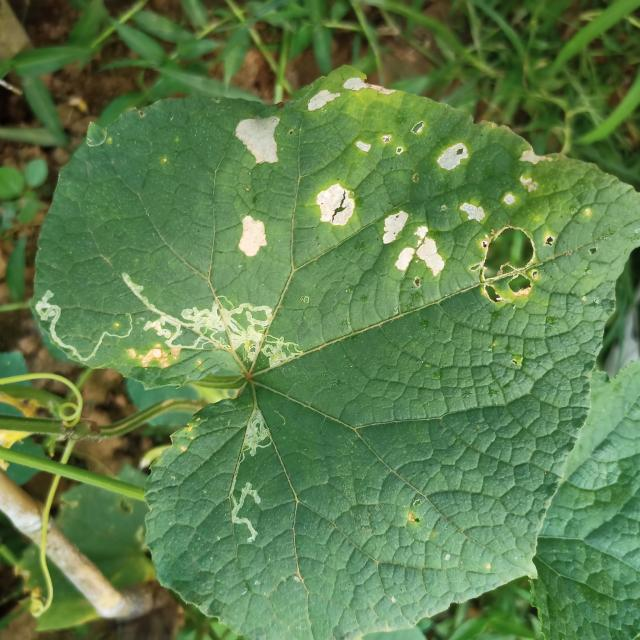disease_cucumber: (303, 72, 559, 314), (226, 105, 288, 175), (233, 207, 273, 266)
